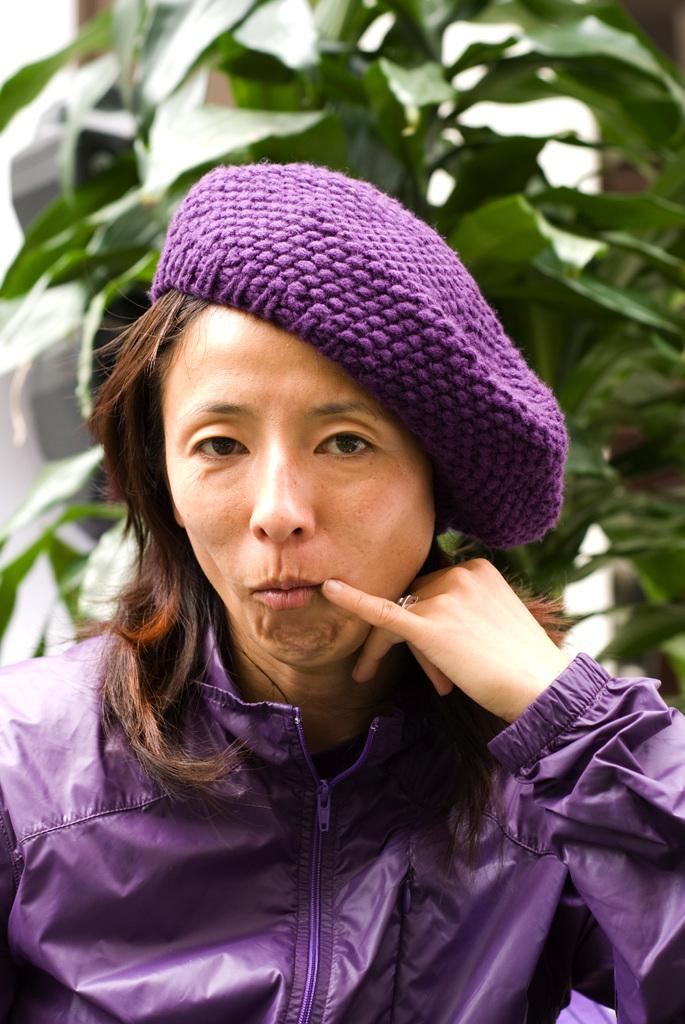Hat: (147, 160, 572, 552)
